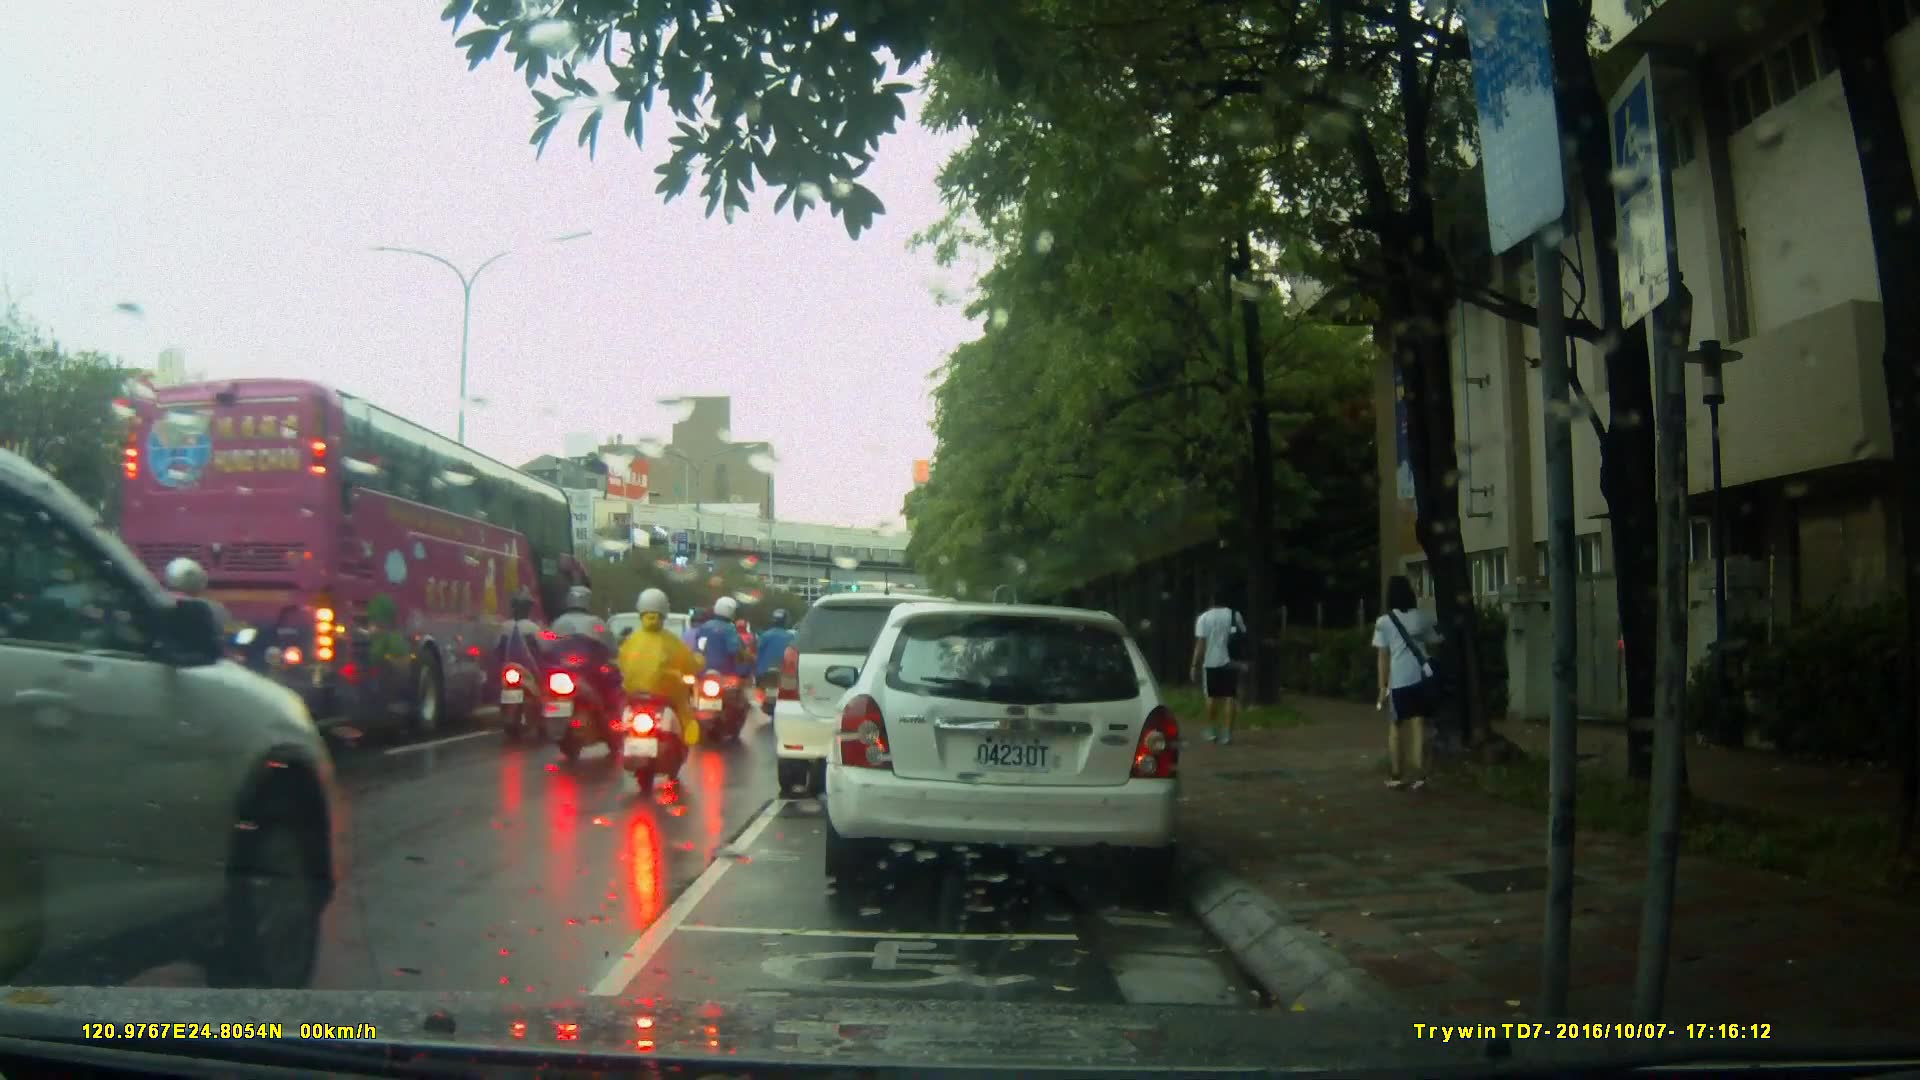pedestrian: (1359, 575, 1445, 801), (1179, 581, 1241, 749)
rider: (114, 554, 259, 817), (625, 591, 706, 798), (547, 582, 623, 763), (690, 594, 752, 756), (496, 593, 556, 744), (753, 608, 814, 731), (683, 598, 728, 715), (722, 617, 761, 694)
vehicle: (1, 439, 350, 987), (109, 373, 580, 738), (835, 594, 1194, 898), (776, 590, 1026, 784), (585, 610, 726, 729)
